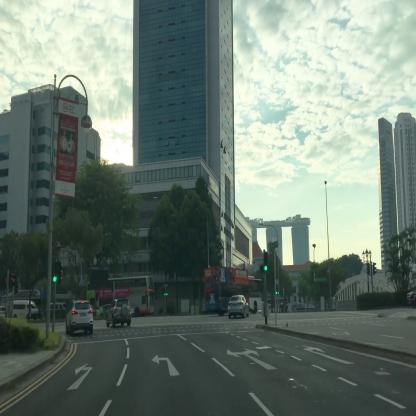green_traffic_light: (263, 250, 267, 271), (53, 260, 56, 282)
